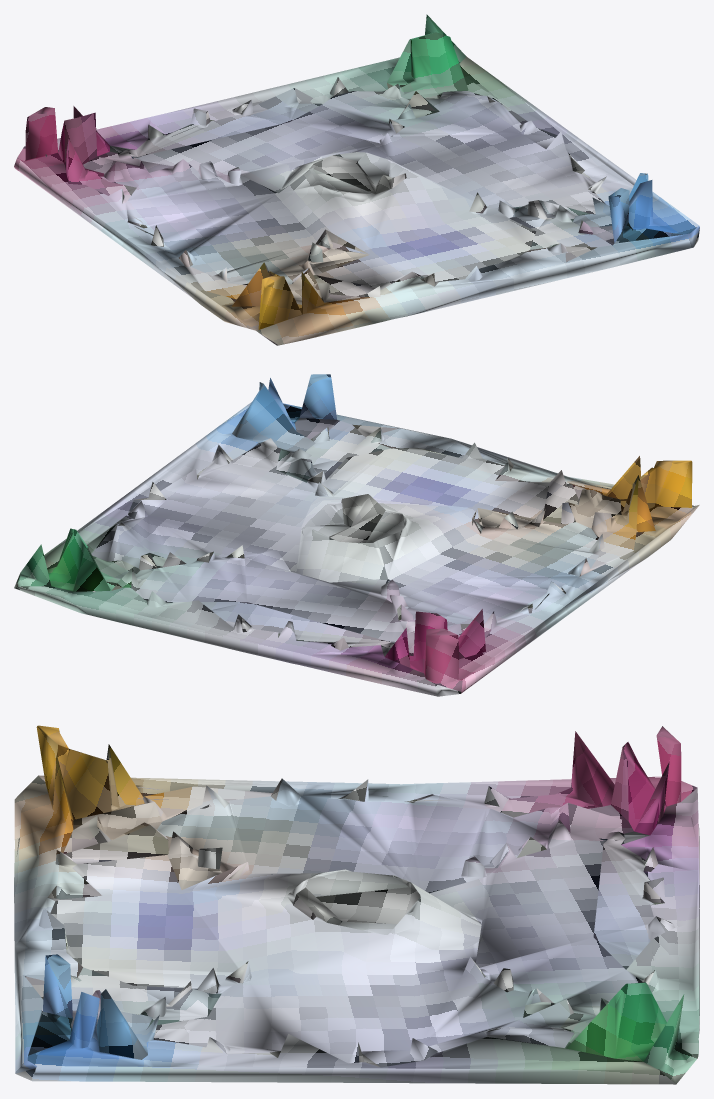
File: Frozen_Olafs_In_Trouble_PopOMatic_Game_OEu83W9T8pD-low.glb
3 views of the same model, one above another, from view 1: azimuth 30°, elevation 25°; view 2: azimuth 150°, elevation 25°; view 3: azimuth 270°, elevation 25° (orthographic). The views are drawn at different scales.
Visible parts, largest first — view 1: Frozen_Olafs_In_Trouble_PopOMatic_Game_OEu83W9T8pD; view 2: Frozen_Olafs_In_Trouble_PopOMatic_Game_OEu83W9T8pD; view 3: Frozen_Olafs_In_Trouble_PopOMatic_Game_OEu83W9T8pD.
Boxes of the visible parts, x1,y1,x2,y2 form: Frozen_Olafs_In_Trouble_PopOMatic_Game_OEu83W9T8pD: (14,14,699,345); Frozen_Olafs_In_Trouble_PopOMatic_Game_OEu83W9T8pD: (14,374,699,696); Frozen_Olafs_In_Trouble_PopOMatic_Game_OEu83W9T8pD: (14,725,699,1084).
Bounding box in the file's own units: 0.2599 × 0.033 × 0.2604.
1 material, 1 textured.
